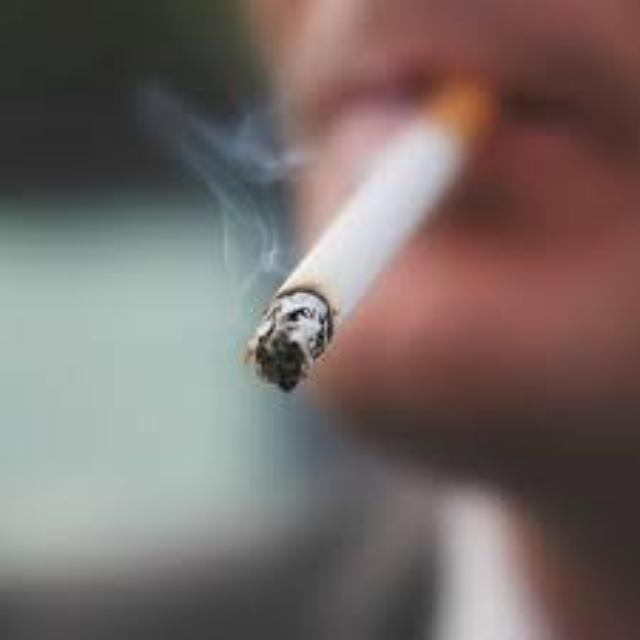Cigarette: (251, 84, 503, 396)
